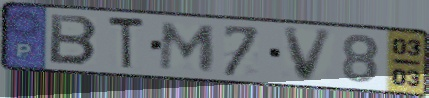7: (222, 24, 262, 78)
8: (340, 33, 382, 85)
B: (47, 12, 101, 68)
M: (157, 20, 219, 73)
T: (106, 14, 147, 72)
V: (281, 27, 337, 84)
